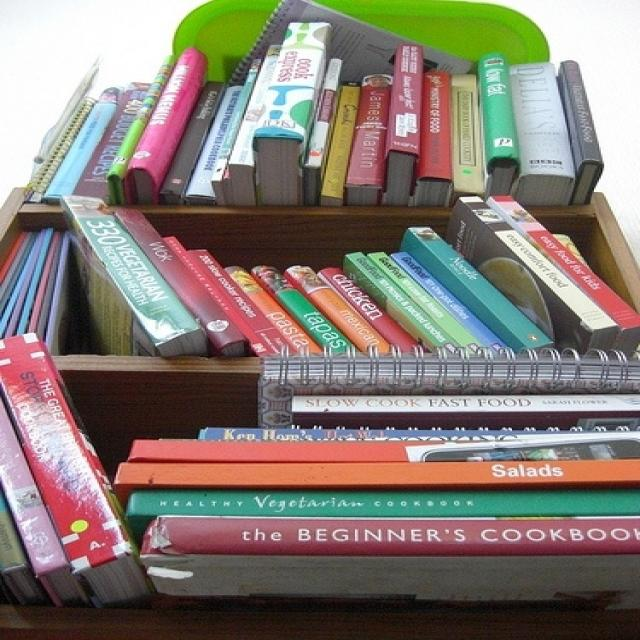book: (0, 332, 135, 573), (459, 197, 617, 332), (67, 197, 204, 344), (399, 227, 558, 347), (144, 515, 638, 553), (481, 49, 575, 205), (116, 457, 638, 485), (345, 253, 468, 358), (127, 489, 638, 514), (186, 249, 299, 361), (125, 47, 205, 202), (249, 264, 368, 356), (255, 22, 337, 136), (323, 268, 422, 354), (289, 394, 638, 414), (181, 87, 244, 192), (345, 74, 391, 204), (476, 54, 525, 164), (297, 59, 341, 168)
